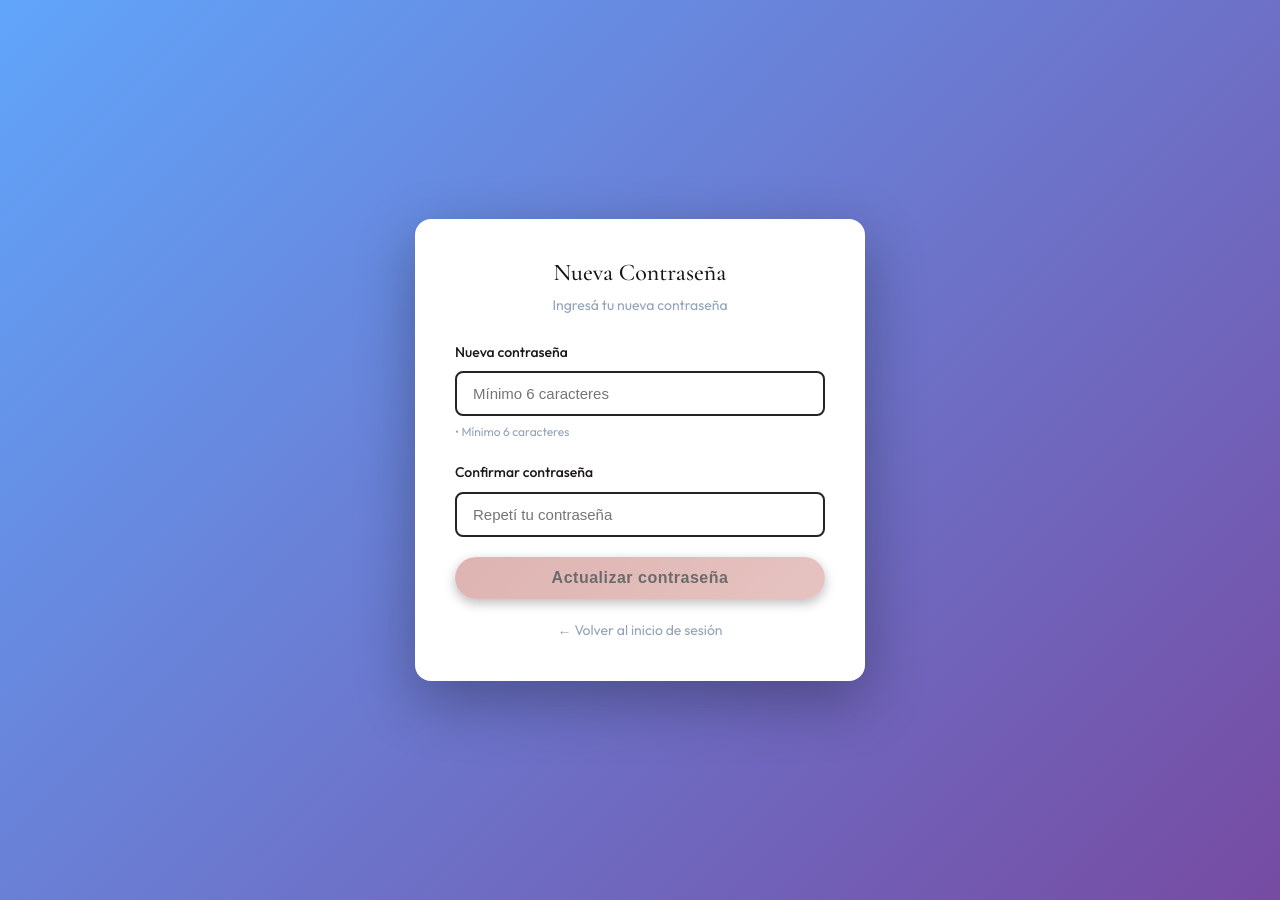
ResetPassword › shows success and link to login after reset
Type "newpass123" into the password field with placeholder "Mínimo 6 caracteres" at coordinates (640, 394), box left=455, top=371, right=825, bottom=416
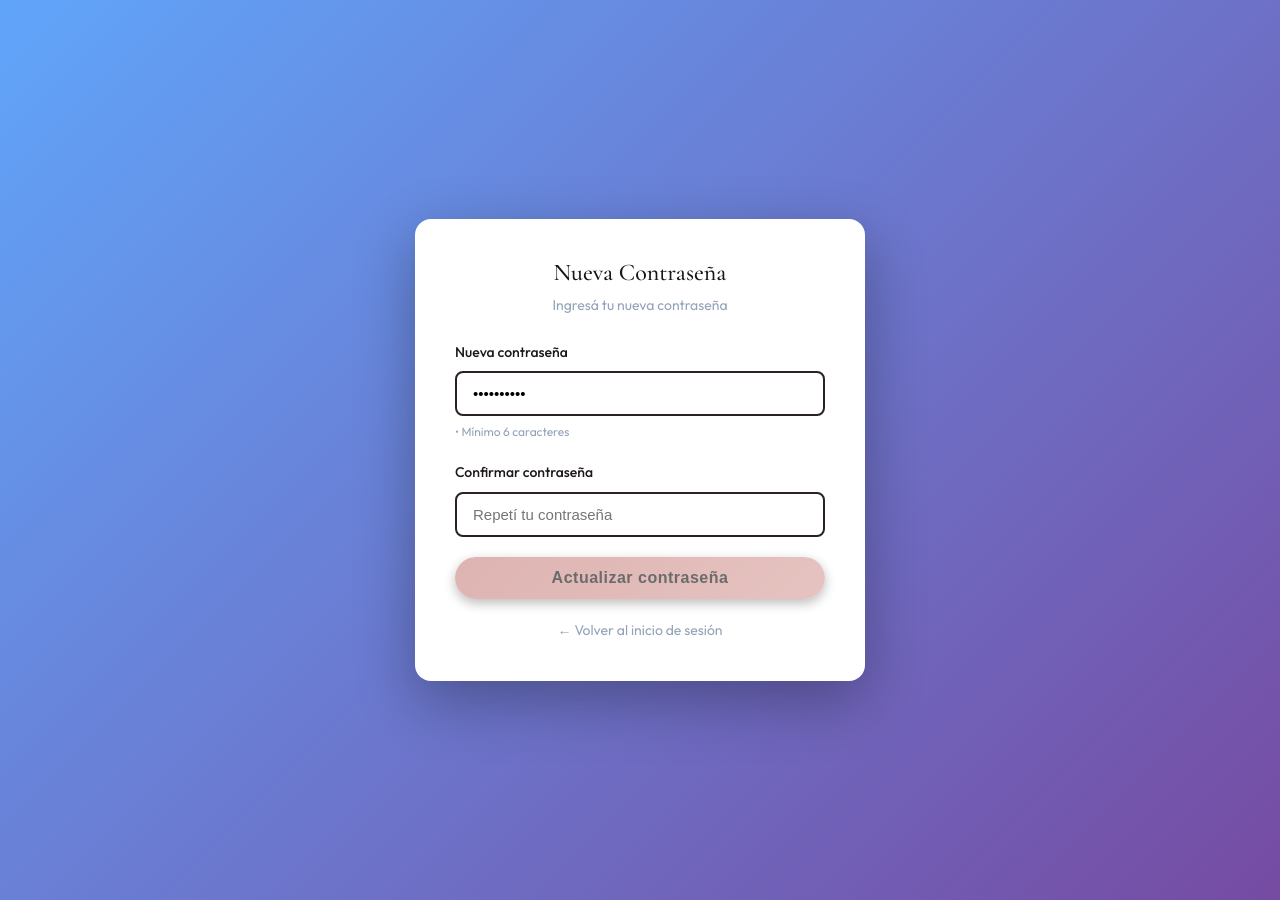
Type "newpass123" into the password field with placeholder "Repetí tu contraseña" at coordinates (640, 514), box left=455, top=492, right=825, bottom=537
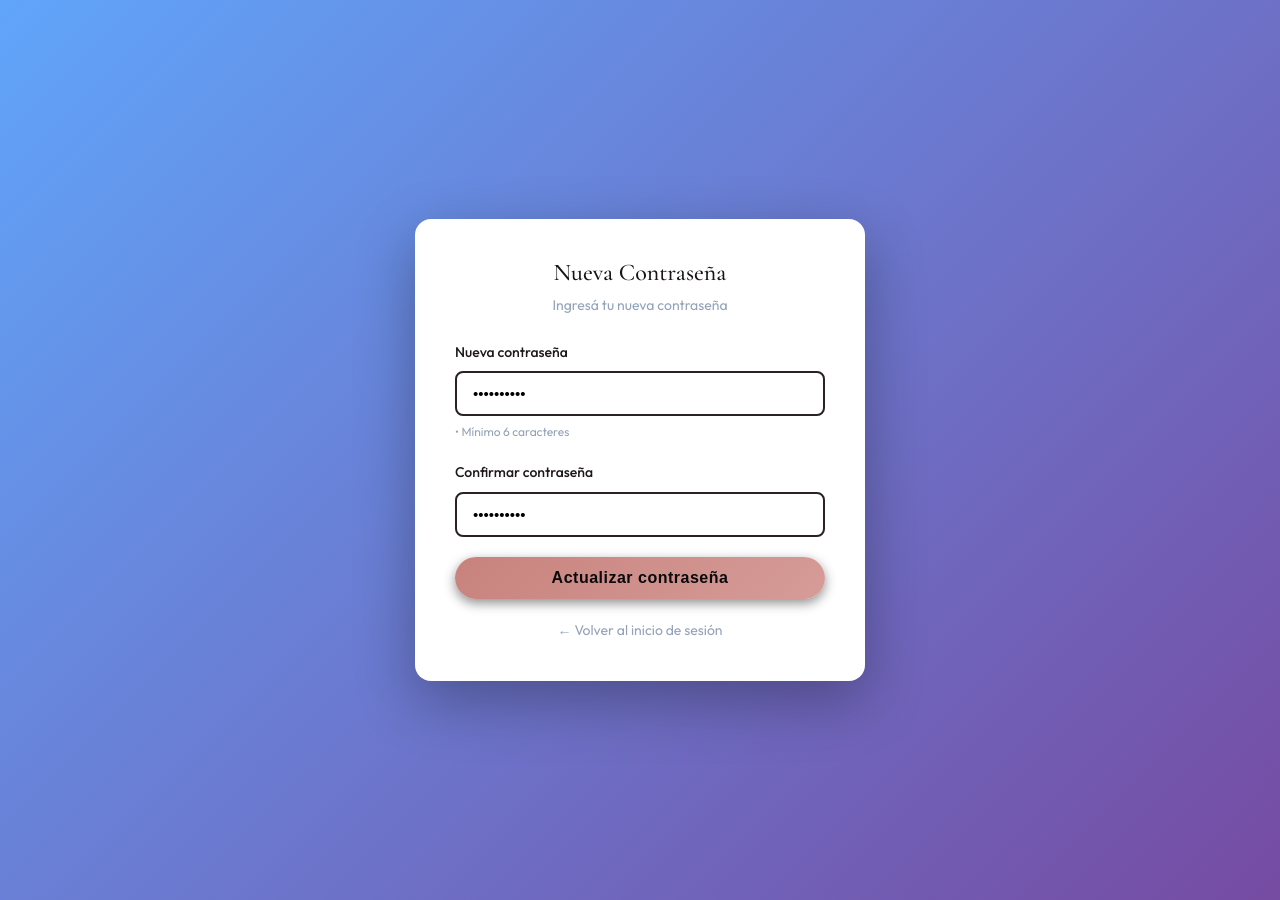
Click the button "Actualizar contraseña" at coordinates (640, 578), box left=455, top=557, right=825, bottom=599
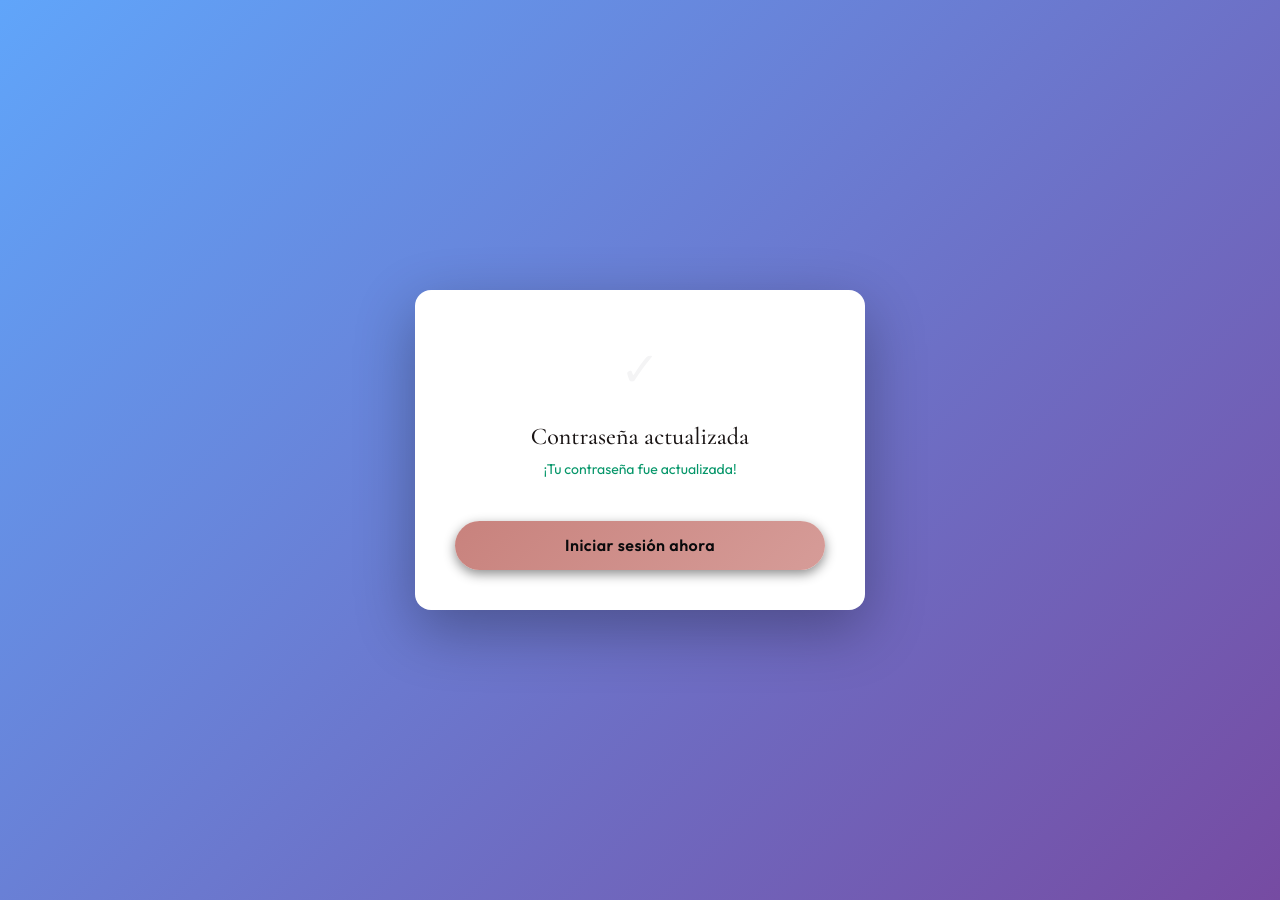
Expected: the heading "Contraseña actualizada" is shown, left=531, top=422, right=749, bottom=451
Expected: the text "¡Tu contraseña fue actualizada!" is shown, left=543, top=460, right=736, bottom=478
